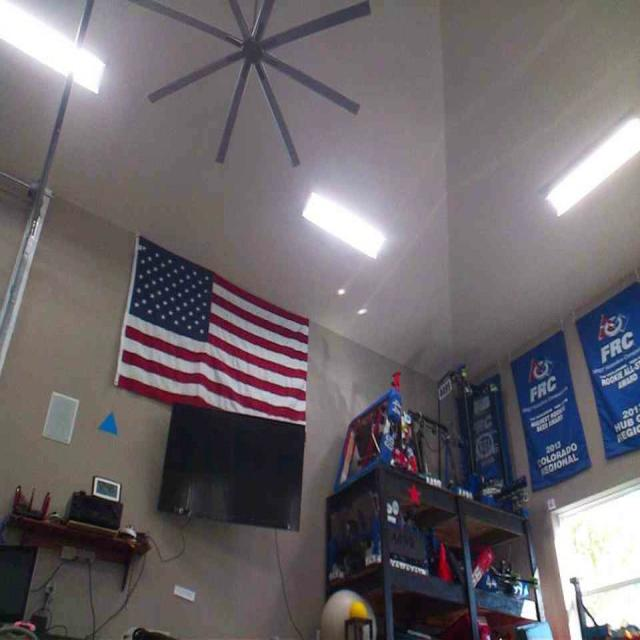star_red: (405, 482, 420, 505)
triangle_blue: (97, 409, 118, 434)
